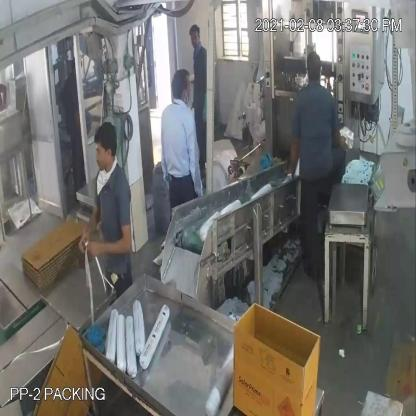no_glove: (82, 228, 139, 264)
